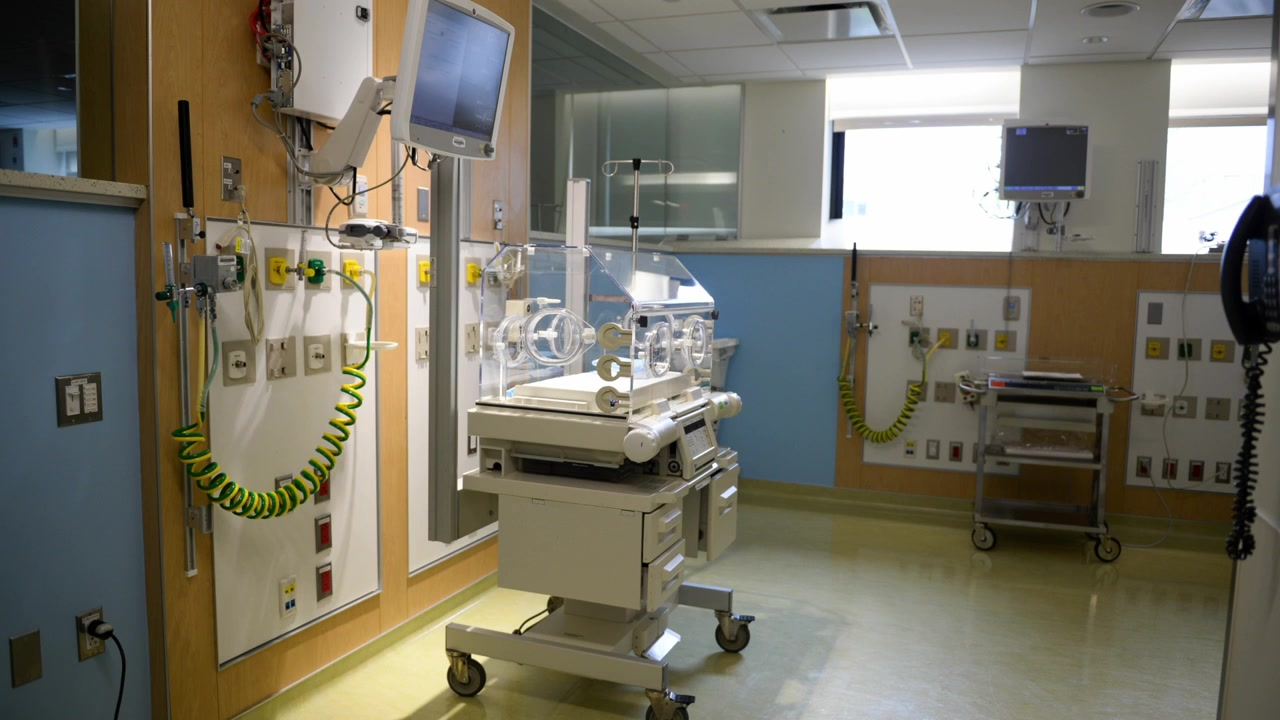bedside_monitor: (388, 1, 515, 160), (998, 117, 1089, 201)
incubator: (445, 241, 757, 720)
iv_pole: (600, 156, 674, 249)
telephone: (1217, 194, 1280, 345)
utility_cart: (960, 354, 1134, 567)
